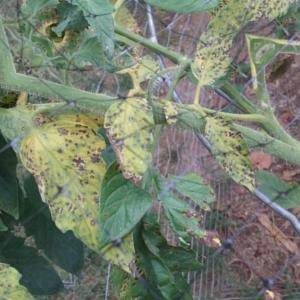Tomato Septoria leaf spot: (0, 94, 193, 292), (78, 74, 206, 202), (186, 104, 287, 204), (172, 21, 253, 102)
